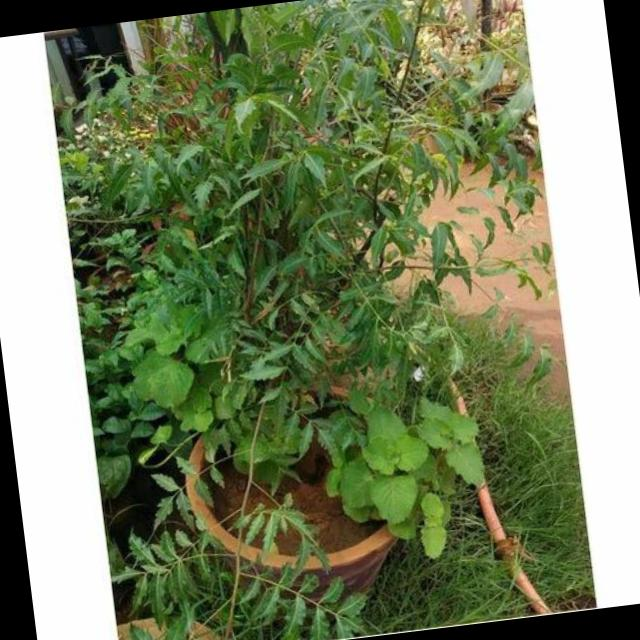Medicinal-Neem: (129, 24, 508, 318), (106, 494, 375, 640), (490, 100, 558, 300)
